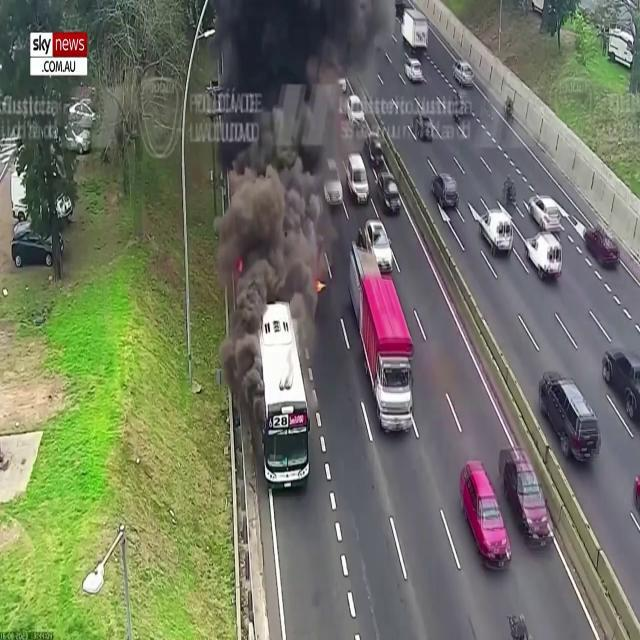Smoke: (211, 0, 361, 317)
